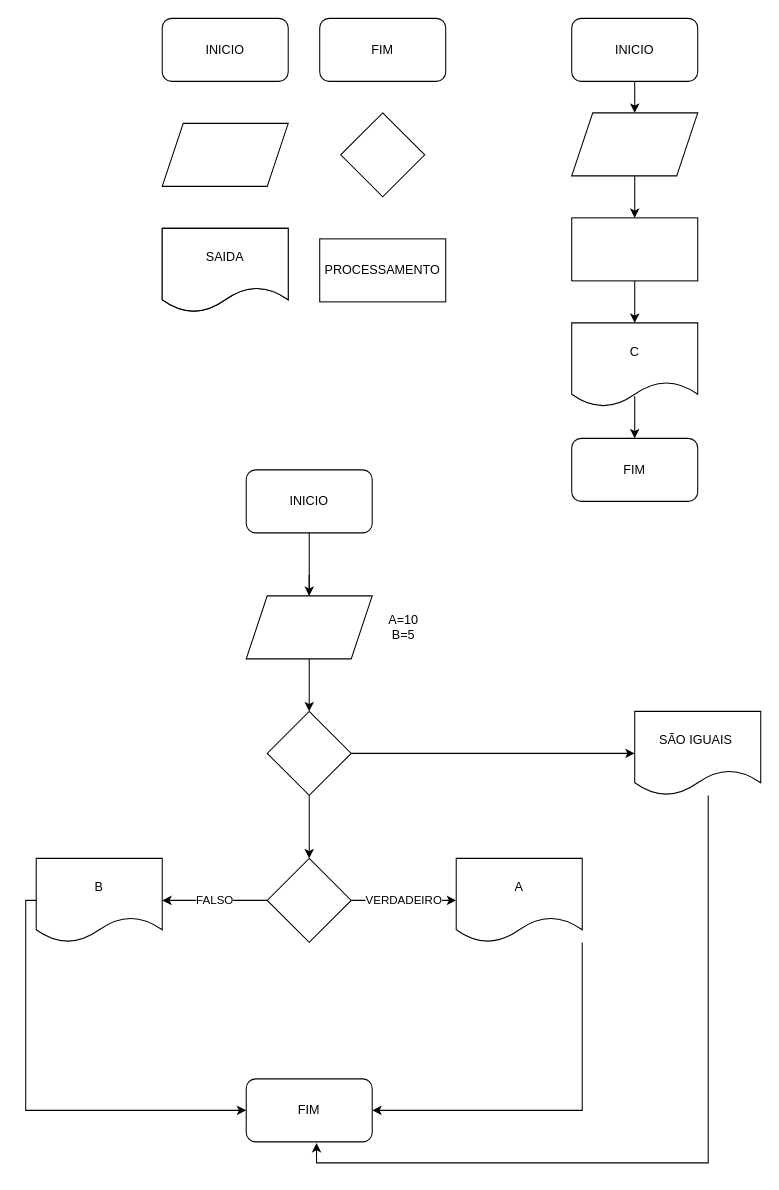
Image size: 779x1190. Some labels were removed from this diagram. Here are the shapes that lost their labels. From the top down, the centre of each, then its label:
At point 224,154: "ENTRADA".
At point 382,154: "DECISÃO".
At point 634,144: "A+B".
At point 634,249: "C=A+B".
At point 308,627: "A,B".
At point 308,752: "A=B".
At point 308,899: "A>B".
